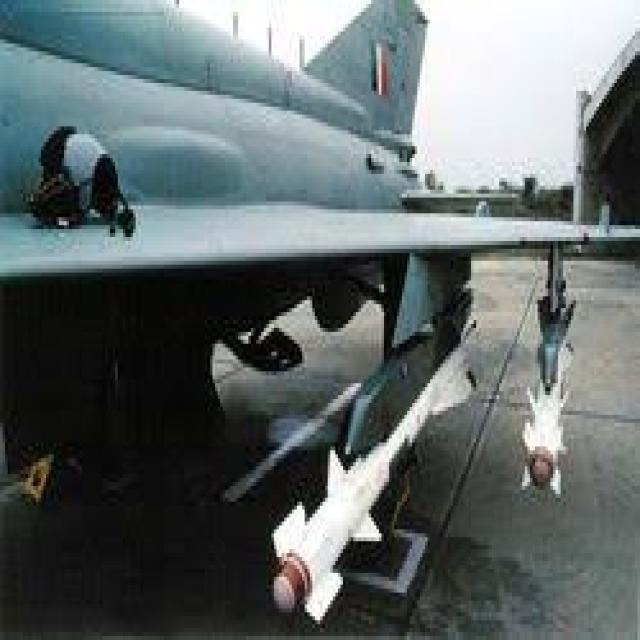missile: (268, 315, 492, 627), (514, 342, 570, 503)
